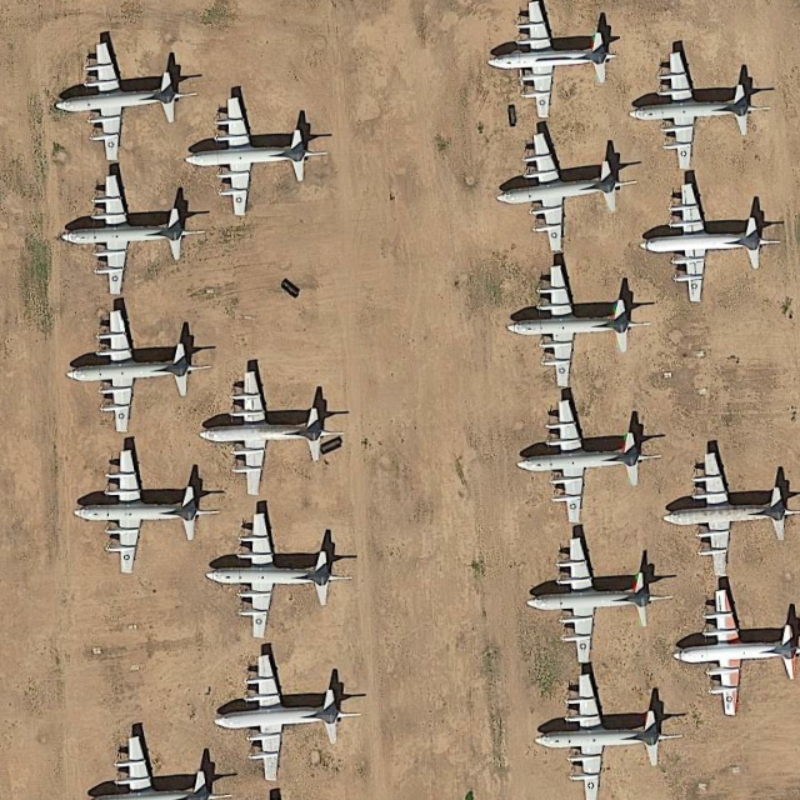A9: (54, 298, 218, 440), (59, 160, 219, 305), (524, 663, 693, 800), (215, 644, 369, 794), (203, 501, 365, 640), (198, 354, 355, 497), (520, 532, 680, 666), (64, 435, 227, 563), (511, 392, 670, 523), (506, 256, 657, 392), (493, 120, 648, 251), (51, 36, 205, 167), (641, 166, 787, 303), (187, 91, 339, 217), (479, 2, 628, 129), (670, 577, 800, 720), (631, 40, 773, 167), (665, 444, 800, 577)
